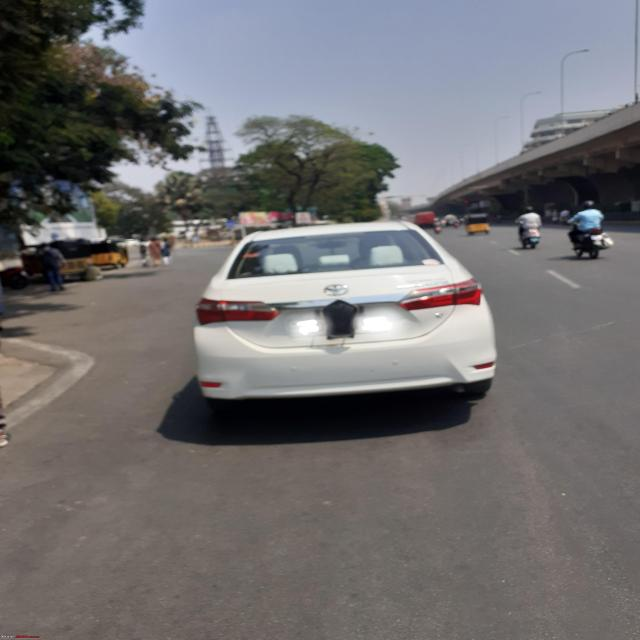autorickshaw: (465, 212, 490, 235)
car: (193, 221, 497, 412)
motorcycle: (568, 200, 605, 259), (514, 203, 546, 253)
